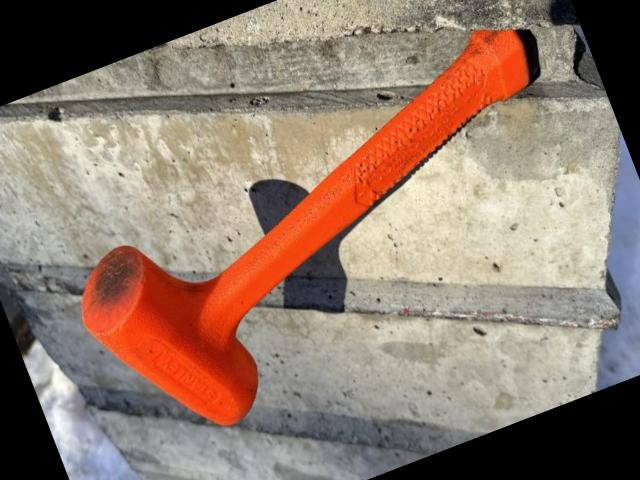hammer: (33, 17, 610, 461)
